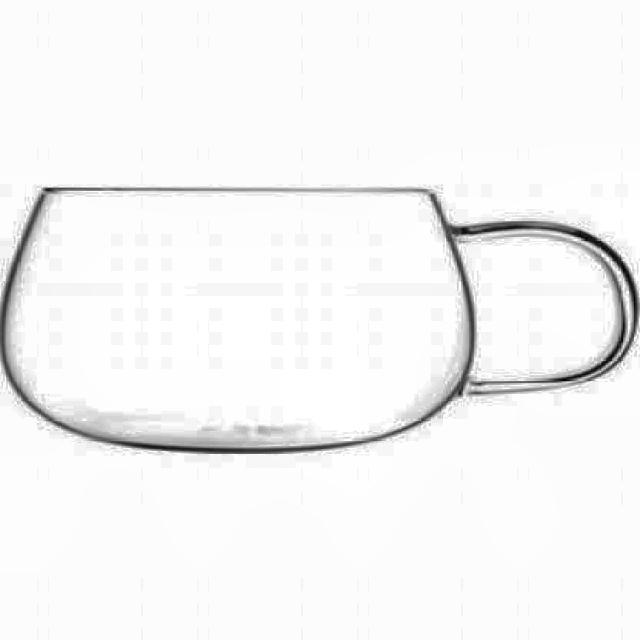Mug: (2, 186, 638, 454)
